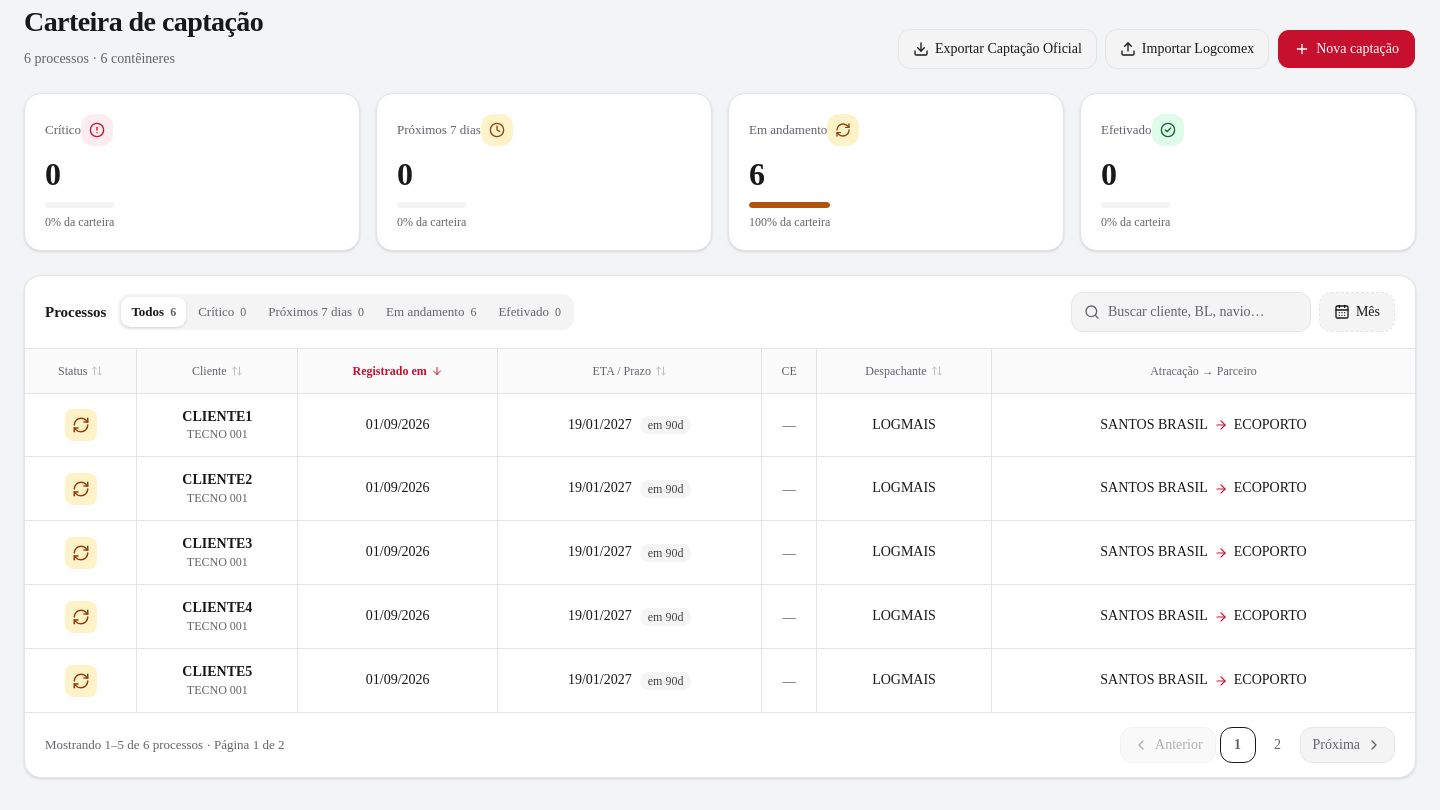
CarteiraPage › volta pra página 1 quando um filtro muda o conjunto exibido
The image size is (1440, 810).
(page scrolled)
Expected: the text "CLIENTE1" is shown, [182,408,252,424]
Click the button "Próxima".
click(1347, 745)  # box [1300,727,1395,763]
(page scrolled)
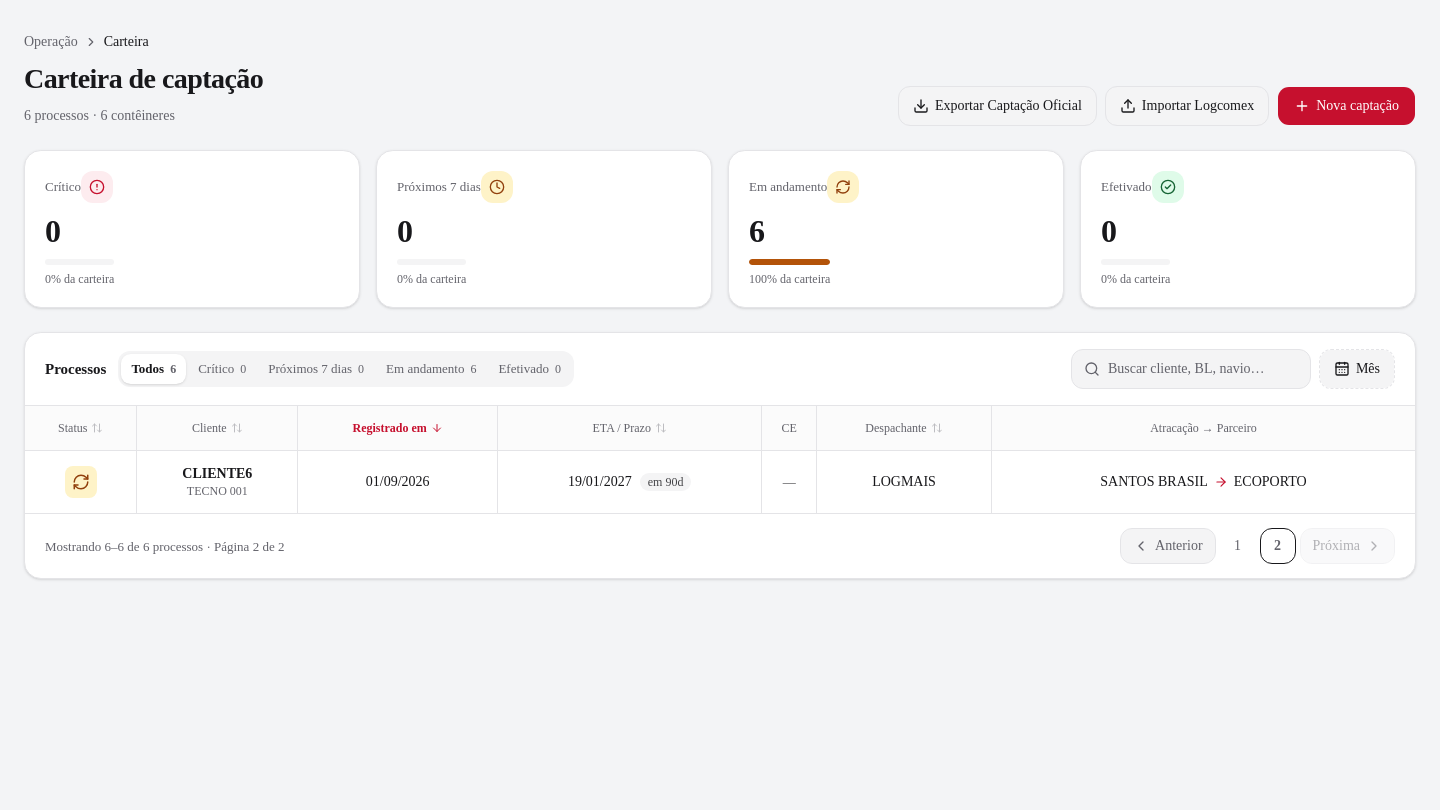
Result: the text "Mostrando 6–6 de 6 processos · Página 2 de 2" is shown at [45,537,284,556]
Type "CLIENTE1" into the field with placeholder "Buscar cliente, BL, navio…".
click(1203, 369); type("CLIENTE1")  # box [1108,359,1298,379]
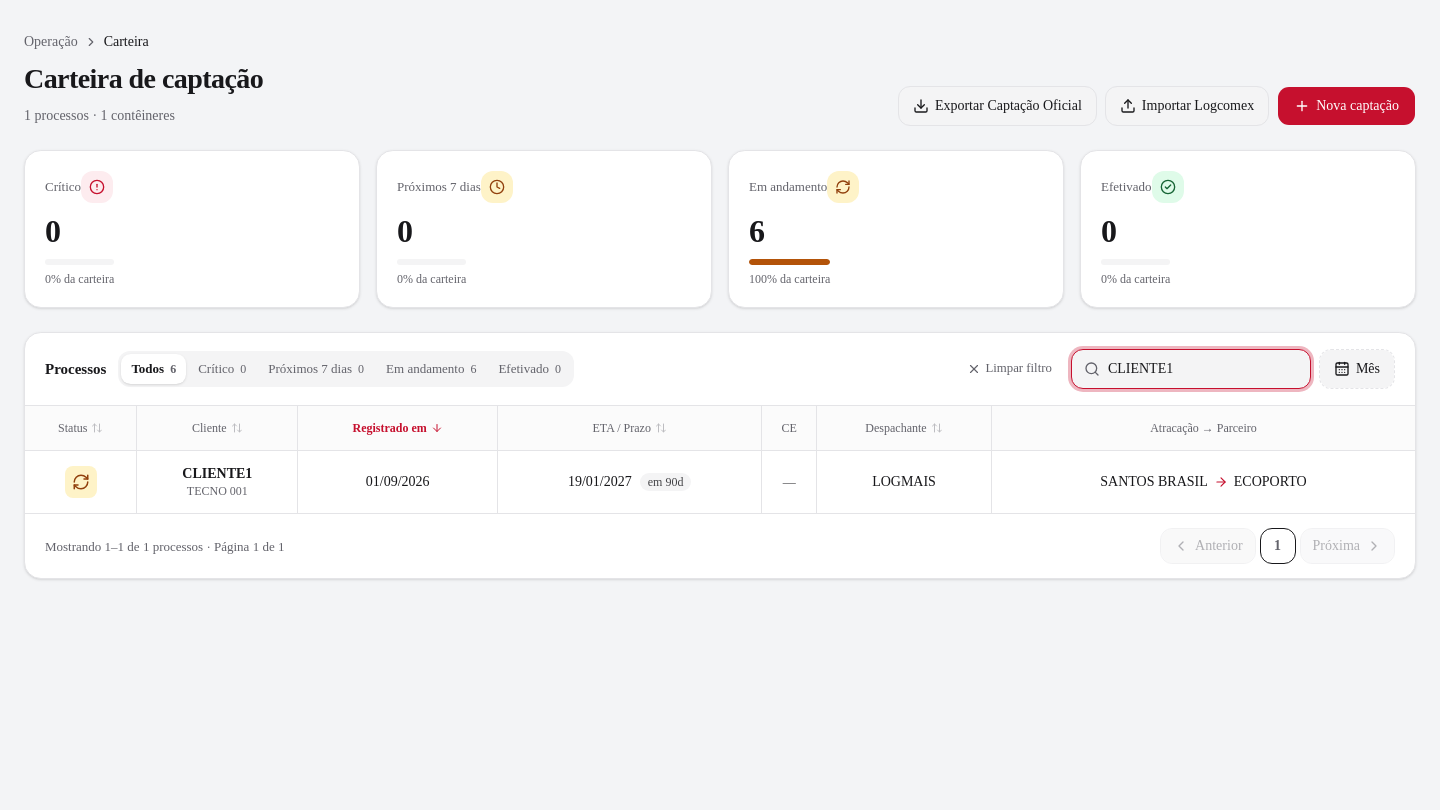
Result: the text "Mostrando 1–1 de 1 processos · Página 1 de 1" is shown at [45,537,284,556]
